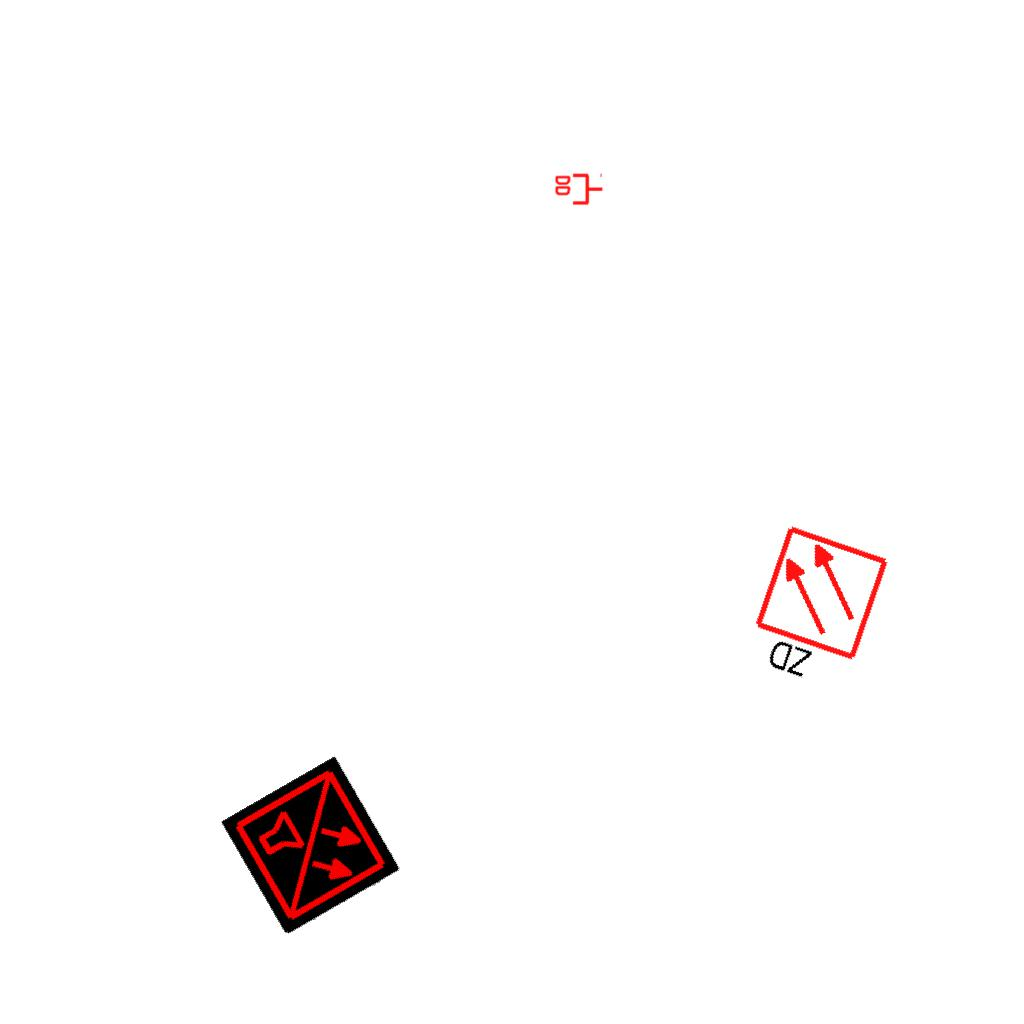Datenanschluss_zweifach: (553, 173, 604, 207)
OKW_Multisensormelder_(Kombination_optischer_Rauch-Kahlenmonoxid_Waerme-Melder): (220, 755, 402, 937)
ZD_Melder_in_Zwischendecke_mit_Revisionsoeffnung_mind_40_x_40_cm: (738, 522, 896, 701)
